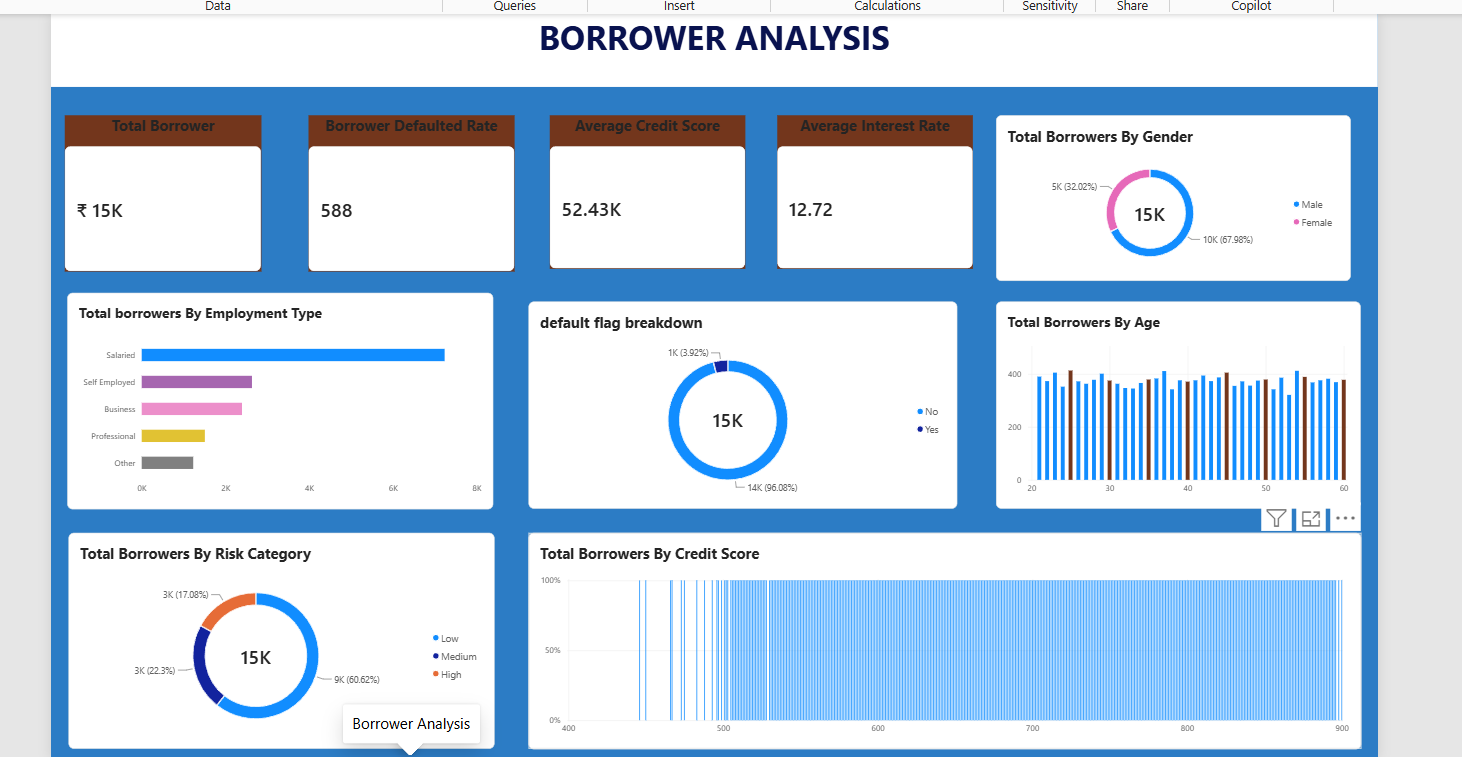

The dashboard page shown, as its layout file describes it:
{"tool":"powerbi","page":{"name":"Borrower Analysis","canvas":[1920,1080],"ordinal":2},"visuals":[{"type":"textbox","box":[0,0,1920.8,105.7],"z":0},{"type":"cardVisual","title":"Total Borrower","fields":{"Data":["MEASURE.Total borrowers"]},"box":[20.8,147.2,284.9,226.4],"z":1},{"type":"cardVisual","title":"Borrower Defaulted Rate","fields":{"Data":["MEASURE.Defaulted Borrowers"]},"box":[373.6,147.2,298.1,226.4],"z":2},{"type":"cardVisual","title":"Average Credit Score","fields":{"Data":["MEASURE.Avg credit Score"]},"box":[722.6,147.2,283,222.6],"z":5},{"type":"cardVisual","title":"Average Interest Rate","fields":{"Data":["MEASURE.Average Interest rate"]},"box":[1050.9,147.2,283,222.6],"z":6},{"type":"donutChart","title":"Total Borrowers By Gender","fields":{"Category":["Loan_Fact.Gender"],"Y":["MEASURE.Total borrowers"]},"box":[1367.9,147.2,513.2,239.6],"z":7},{"type":"clusteredColumnChart","title":"Total Borrowers By Age","fields":{"Y":["MEASURE.Total borrowers"],"Category":["Loan_Fact.Age"]},"box":[1367.9,417,528.3,300],"z":8},{"type":"clusteredBarChart","title":"Total borrowers By Employment Type","fields":{"Category":["Loan_Fact.Employment_Type"],"Y":["MEASURE.Total borrowers"]},"box":[22.6,403.8,617,313.2],"z":9},{"type":"hundredPercentStackedColumnChart","title":"Total Borrowers By Credit Score","fields":{"Category":["Loan_Fact.Credit_Score"],"Y":["MEASURE.Total borrowers"]},"box":[690.6,750.9,1205.7,313.2],"z":10},{"type":"donutChart","title":"Total Borrowers By Risk Category","fields":{"Category":["Loan_Fact.Risk_Category"],"Y":["MEASURE.Total borrowers"]},"box":[24.5,750.9,617,313],"z":11},{"type":"donutChart","title":"default flag breakdown","fields":{"Category":["Loan_Fact.Default_Flag"],"Y":["MEASURE.Total borrowers"]},"box":[690.6,417,620.8,300],"z":12}]}

Visuals, with their boxes in screenshot pixels (x1, y1, x2, y2):
textbox: [46, 11, 1375, 85]
"Total Borrower" cardVisual: [60, 113, 257, 270]
"Borrower Defaulted Rate" cardVisual: [304, 113, 510, 270]
"Average Credit Score" cardVisual: [546, 113, 741, 267]
"Average Interest Rate" cardVisual: [773, 113, 969, 267]
"Total Borrowers By Gender" donutChart: [992, 113, 1347, 279]
"Total Borrowers By Age" clusteredColumnChart: [992, 300, 1358, 507]
"Total borrowers By Employment Type" clusteredBarChart: [61, 291, 488, 507]
"Total Borrowers By Credit Score" hundredPercentStackedColumnChart: [523, 531, 1358, 748]
"Total Borrowers By Risk Category" donutChart: [63, 531, 489, 747]
"default flag breakdown" donutChart: [523, 300, 953, 507]
